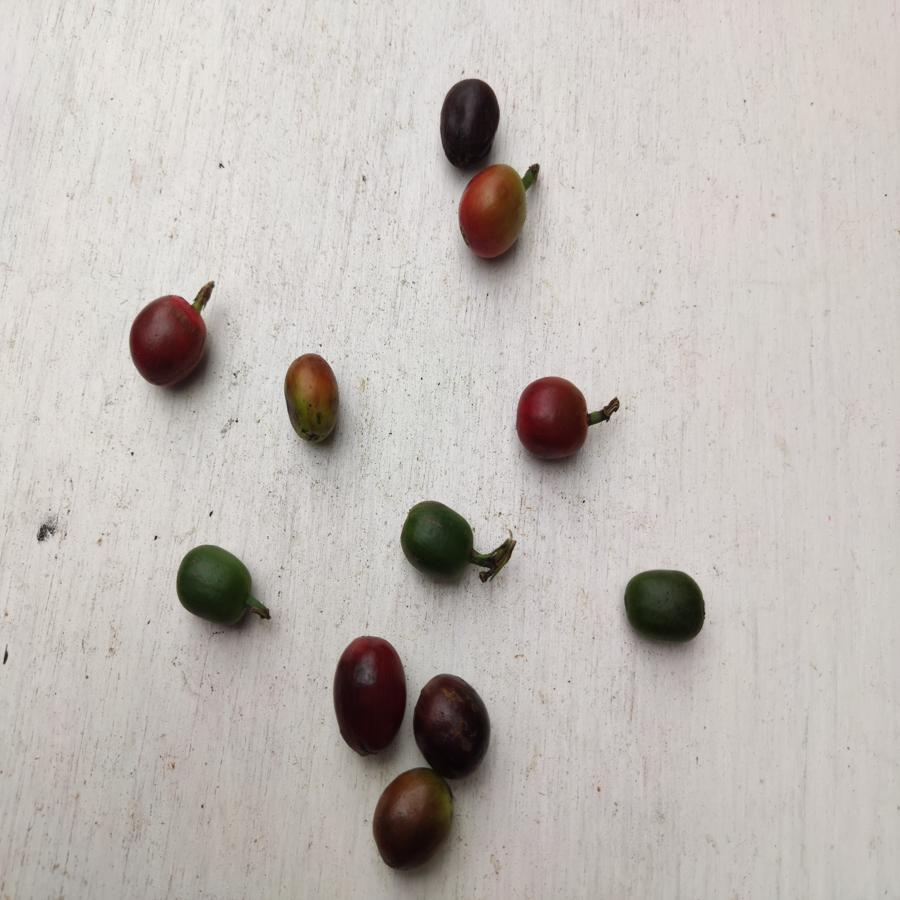Inmaduro: (164, 537, 268, 629), (621, 560, 713, 654), (396, 493, 481, 584)
Maduro: (513, 373, 599, 470)
Pinton: (369, 764, 458, 880), (446, 163, 539, 262), (279, 349, 350, 448)
Sobremaduro: (323, 634, 407, 754), (128, 289, 216, 393), (410, 672, 491, 776), (437, 79, 498, 169)
